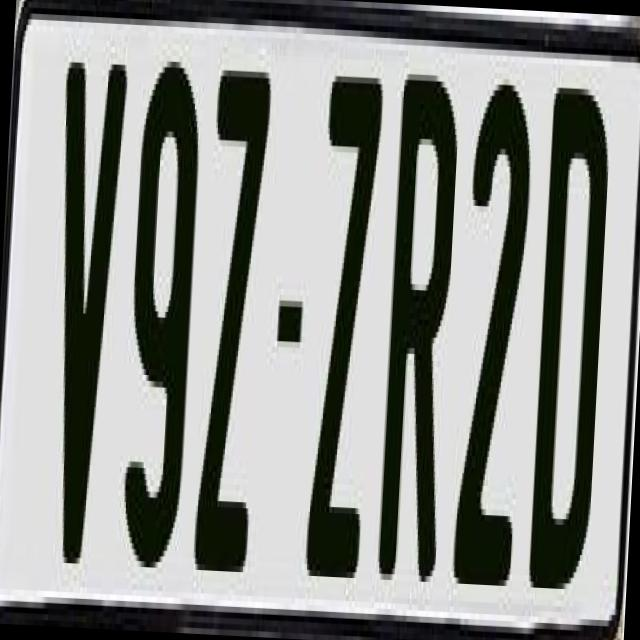2: (450, 66, 544, 604)
9: (117, 49, 203, 592)
D: (525, 88, 614, 620)
R: (370, 73, 462, 618)
V: (39, 50, 137, 582)
Z: (304, 71, 391, 578), (190, 52, 273, 572)
